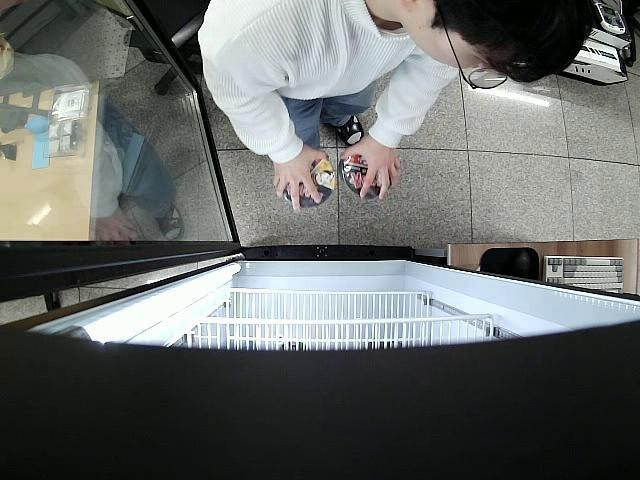07_buldak_L: (280, 158, 334, 208), (340, 153, 393, 200)
